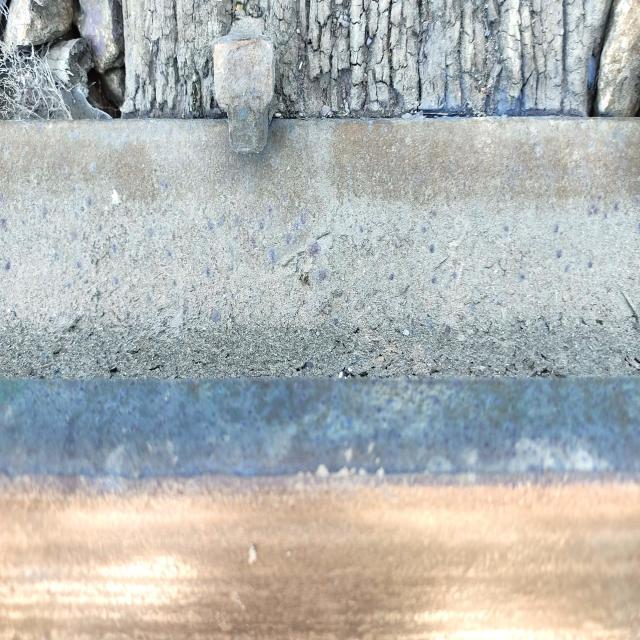Good Fasteners: (214, 31, 275, 153)
